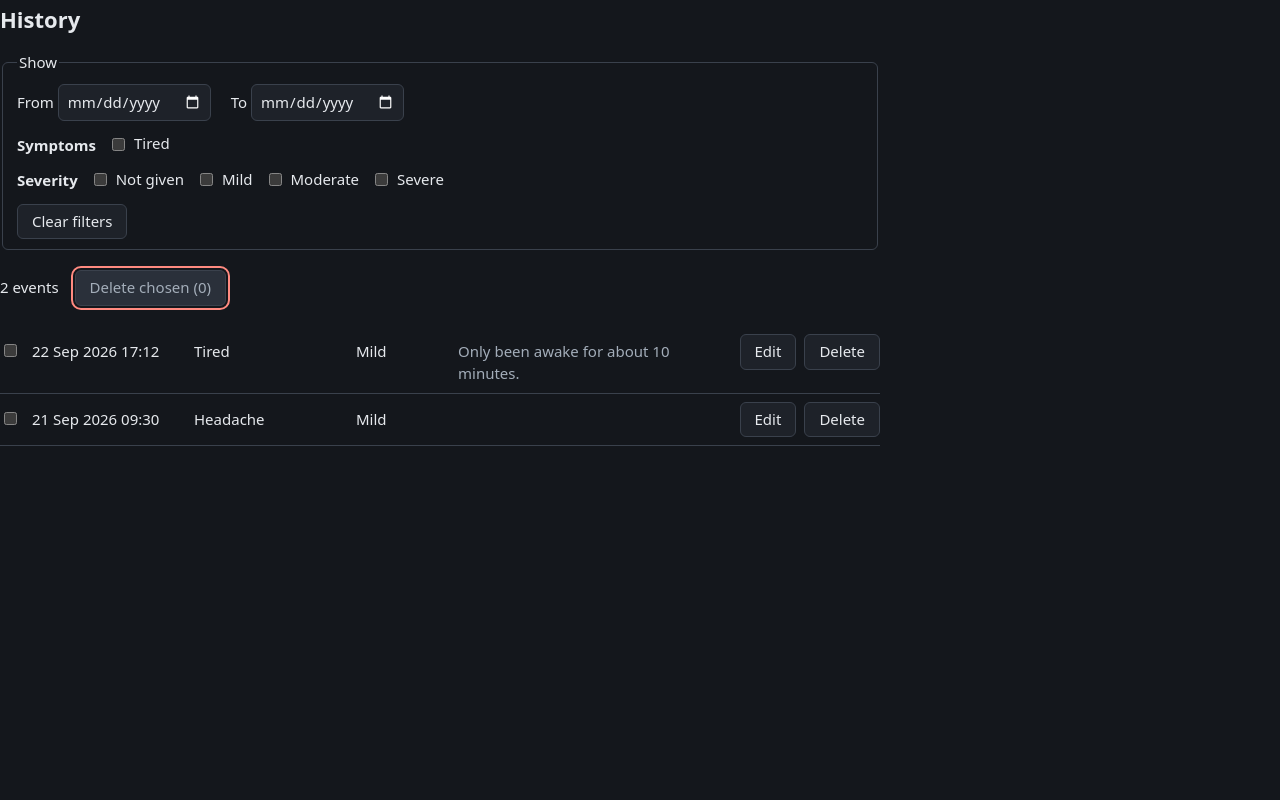
Test: the history › counts the events chosen for a bulk deletion
Expected: the text "2 events" is shown, [0, 277, 59, 299]
Expected: the button "Delete chosen (0)" is disabled, [75, 270, 226, 306]
Click the checkbox named "Choose the Tired event of 22 Sep 2026 17:12": point(10, 351) [4, 344, 17, 357]
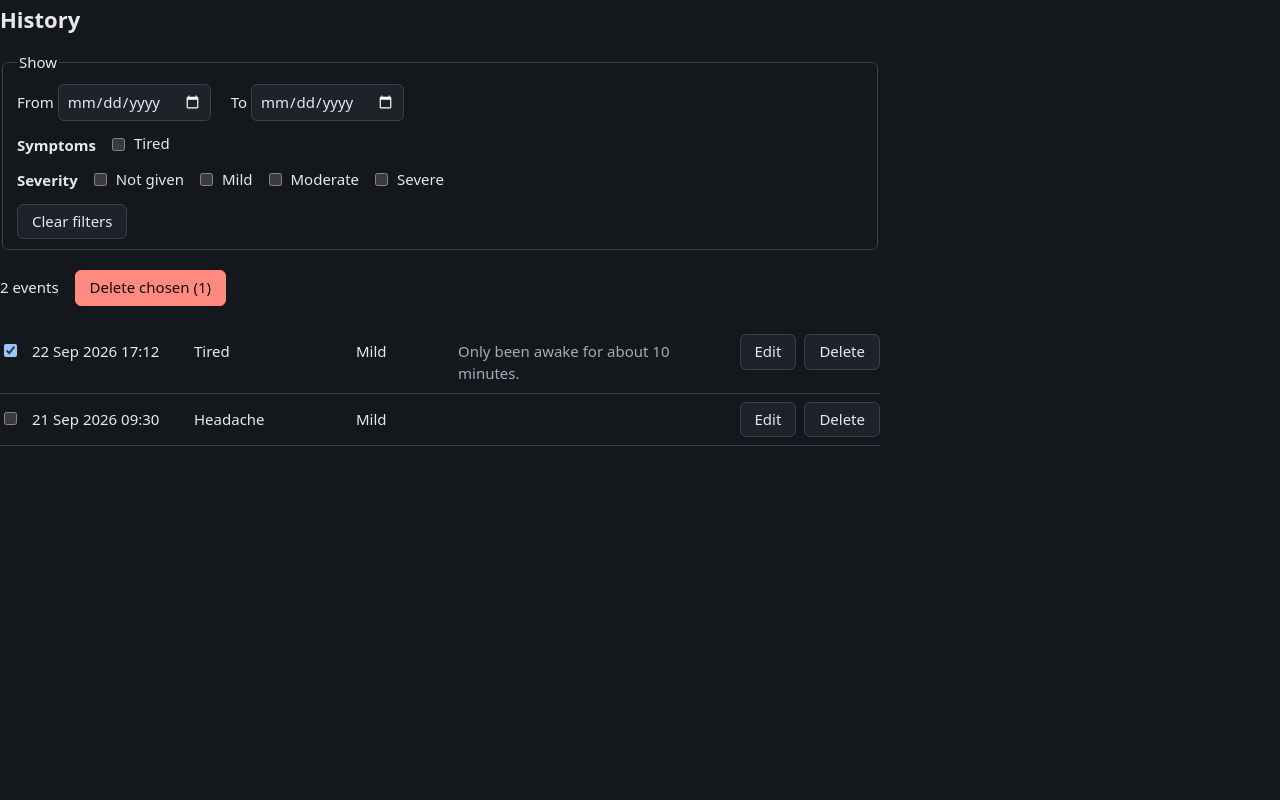
Click the checkbox named "Choose the Headache event of 21 Sep 2026 09:30": point(10, 418) [4, 412, 17, 425]
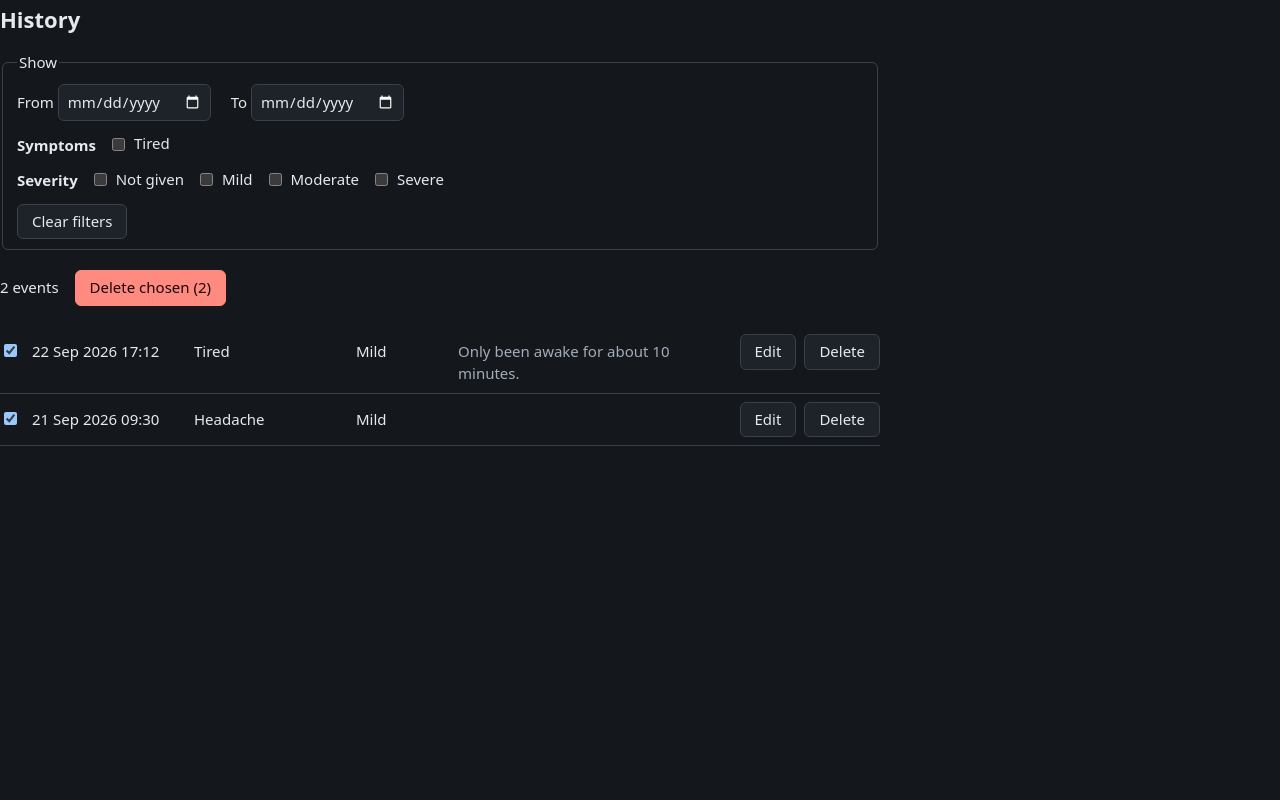
Click the button "Delete chosen (2)": point(150, 288) [75, 270, 226, 306]
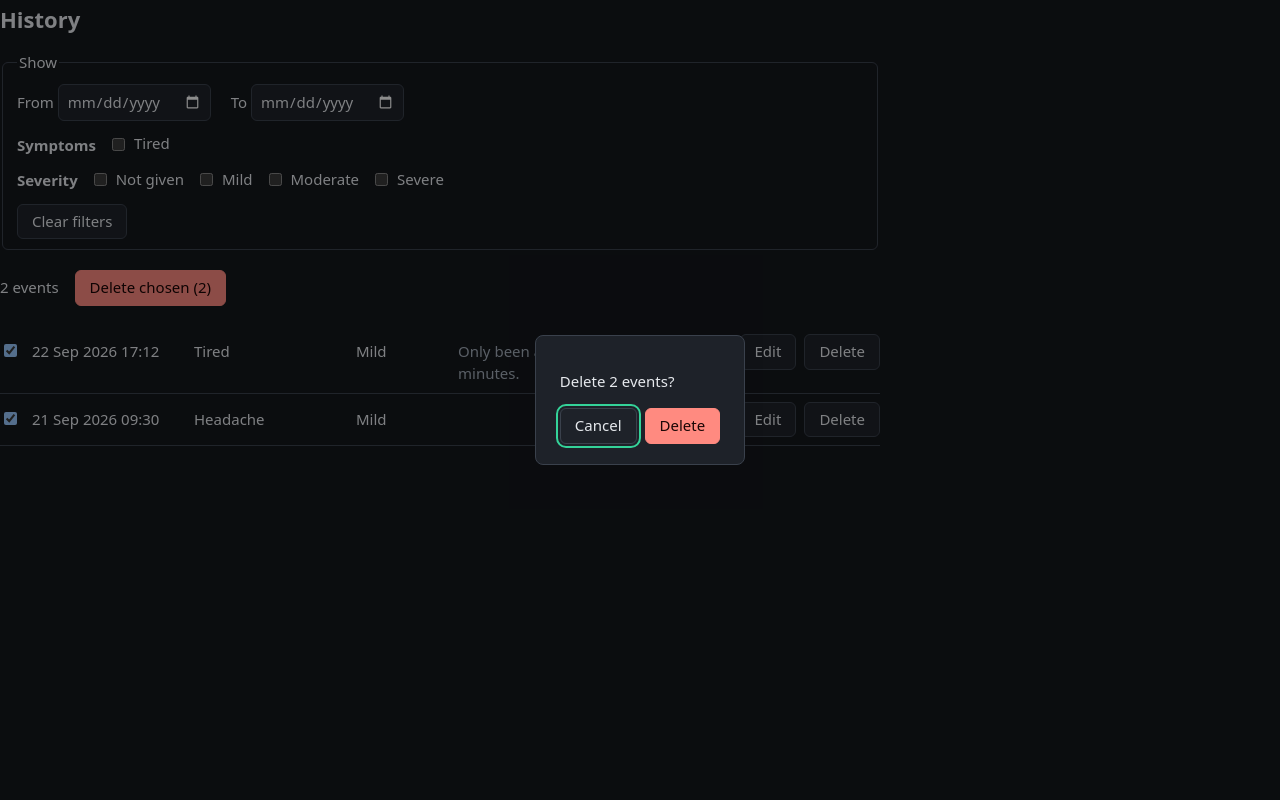
Expected: the text "Delete 2 events?" is shown, [560, 371, 674, 391]
